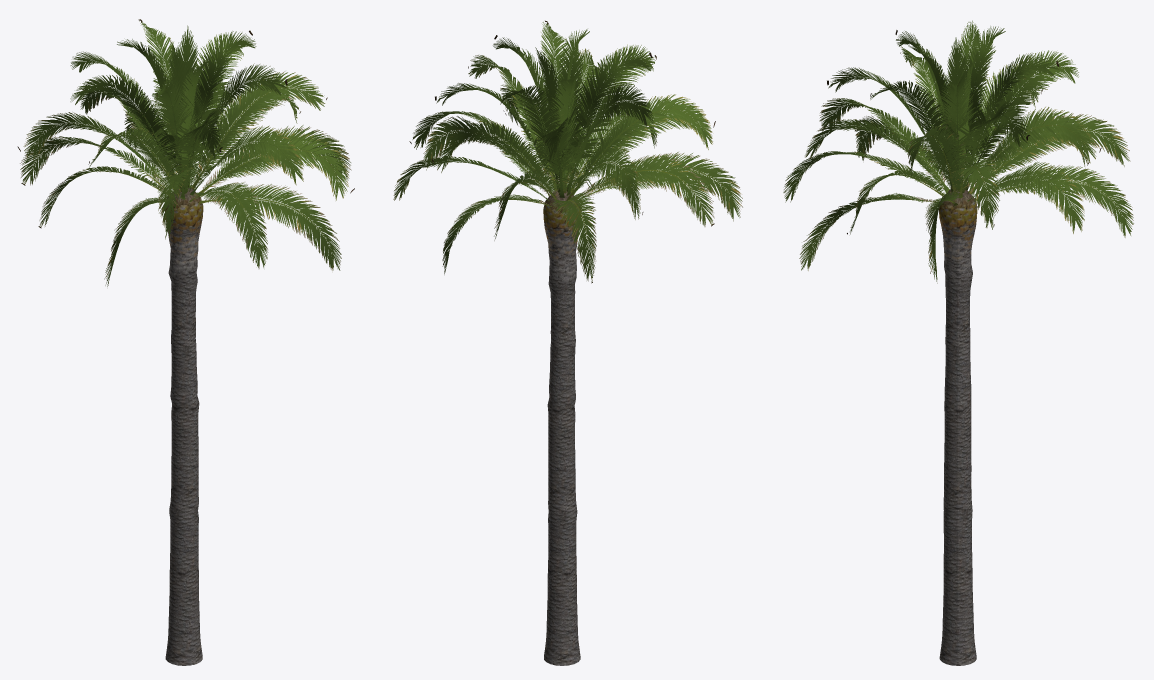
Rendered from palma-35.glb.
The picture shows the model from 3 angles, left to right: view 1: azimuth 30°, elevation 25°; view 2: azimuth 150°, elevation 25°; view 3: azimuth 270°, elevation 25°; orthographic projection.
Visible parts, largest first — view 1: palma-35; view 2: palma-35; view 3: palma-35.
Part boxes in pixels (<box>): palma-35: <box>17,19,354,665</box>; palma-35: <box>393,20,742,665</box>; palma-35: <box>783,20,1133,665</box>.
Bounding box in the file's own units: 8.01 × 15.22 × 8.05.
2 materials, 2 textured.
